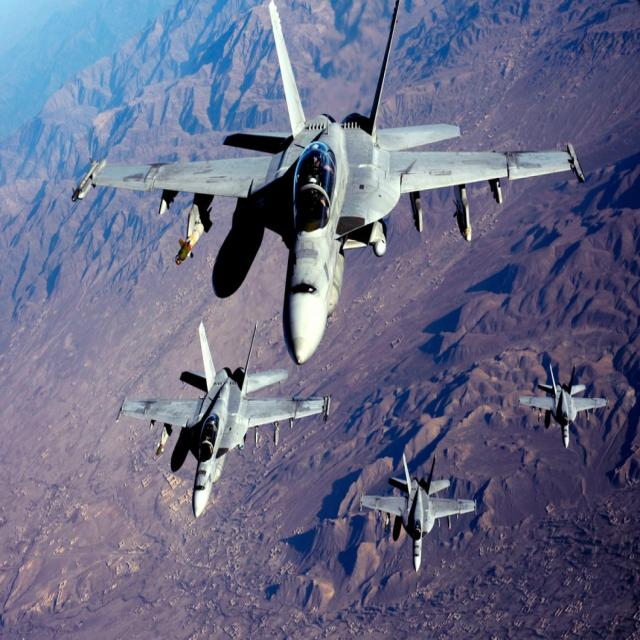MIL_Plane: (71, 1, 585, 367), (115, 319, 332, 519), (358, 453, 478, 571), (518, 364, 611, 449)
